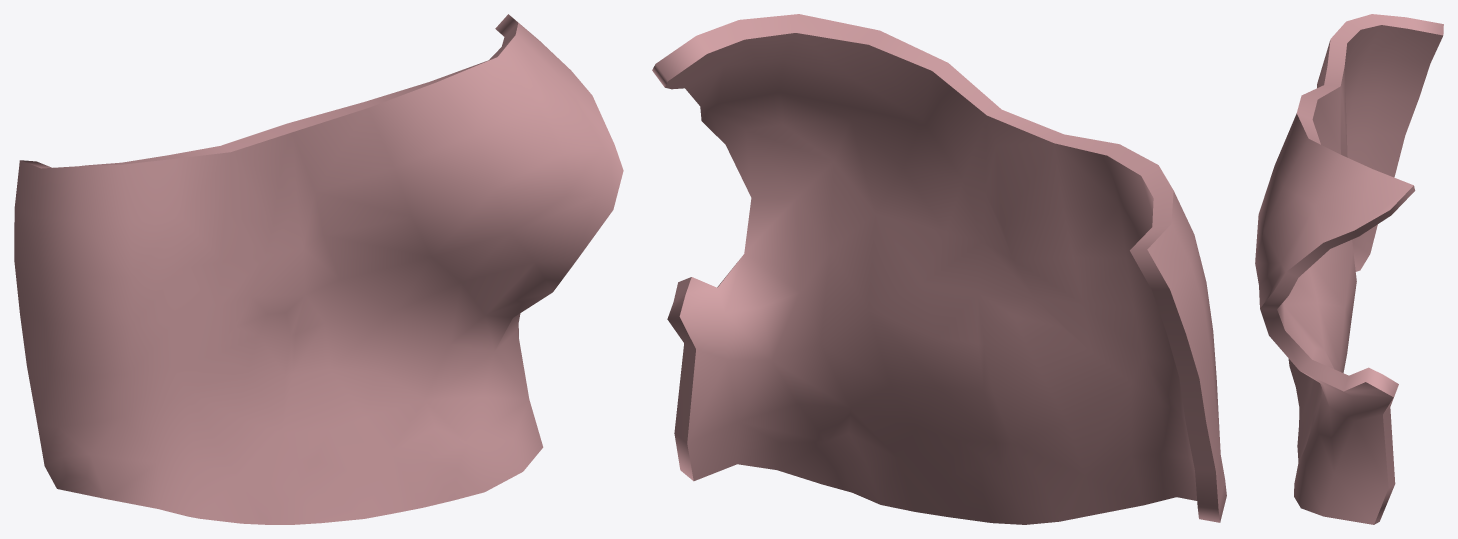
3 renders of one model, left to right at view 1: azimuth 30°, elevation 25°; view 2: azimuth 150°, elevation 25°; view 3: azimuth 270°, elevation 25°, orthographic. The views are drawn at different scales.
Visible parts, largest first — view 1: ZA_1febb4abe04cc1da; view 2: ZA_1febb4abe04cc1da; view 3: ZA_1febb4abe04cc1da.
Boxes of the visible parts, x1=… form: ZA_1febb4abe04cc1da: x1=14, y1=14, x2=623, y2=524; ZA_1febb4abe04cc1da: x1=652, y1=14, x2=1226, y2=524; ZA_1febb4abe04cc1da: x1=1255, y1=14, x2=1443, y2=524.
Bounding box in the file's own units: 0.0924 × 0.0719 × 0.0329.
